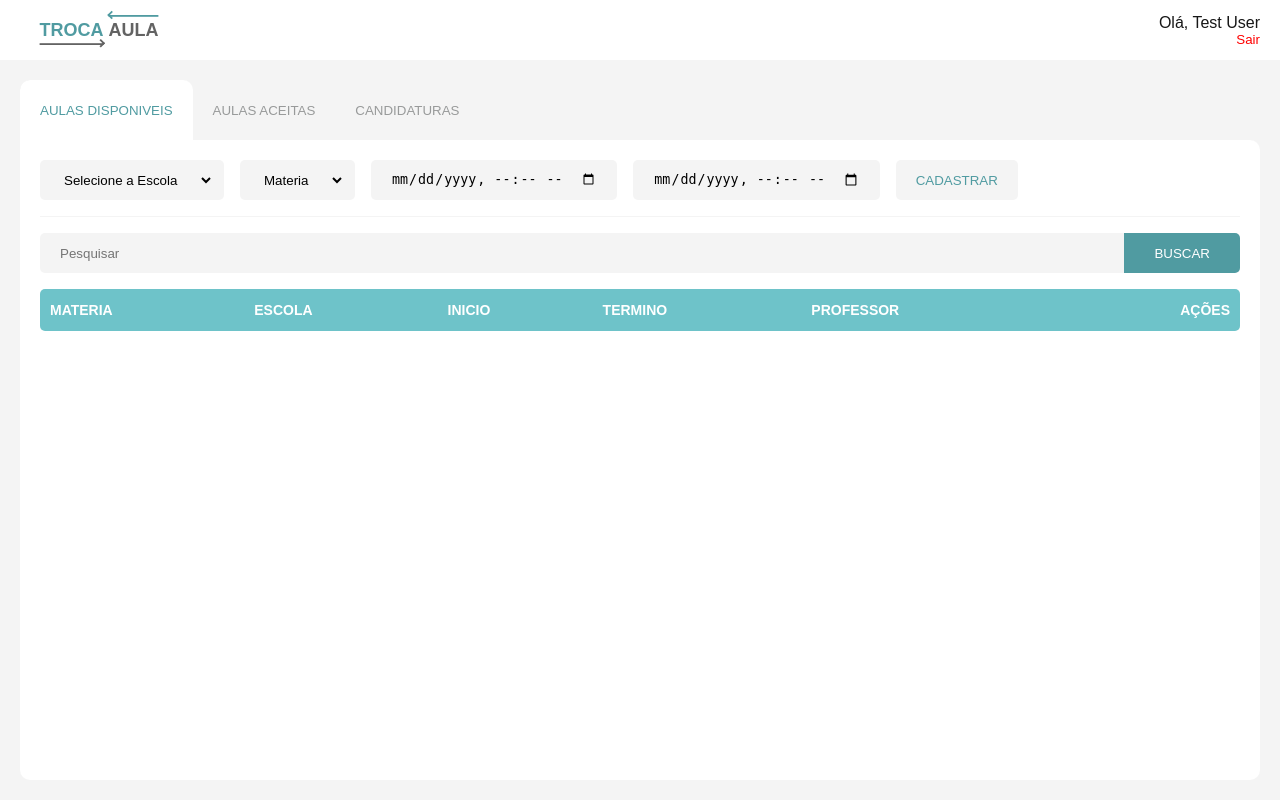
it: Dashboard Page › handles search
This screenshot has width=1280, height=800.
Type "Math" into the field with placeholder "Pesquisar" at (582, 253), box [40,233,1124,273]
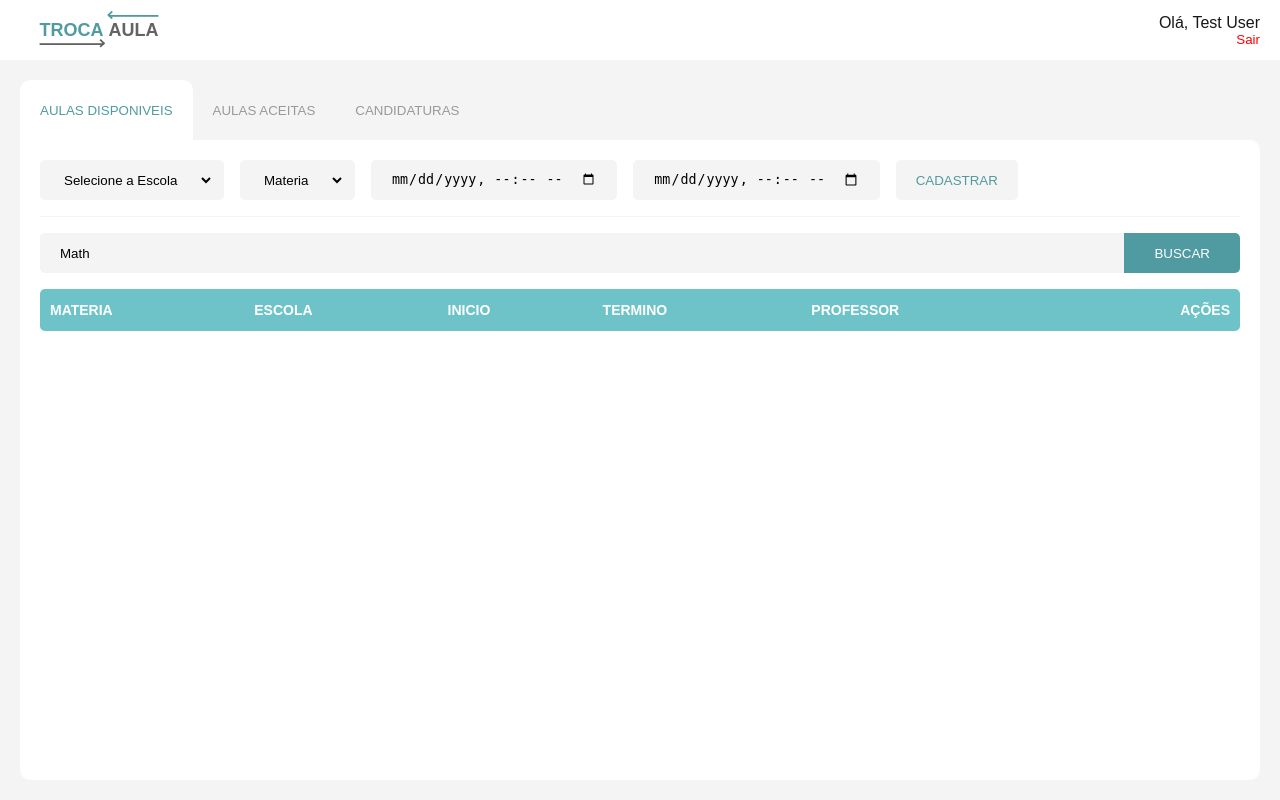
Click the button "Buscar" at (1182, 253), box [1124,233,1240,273]
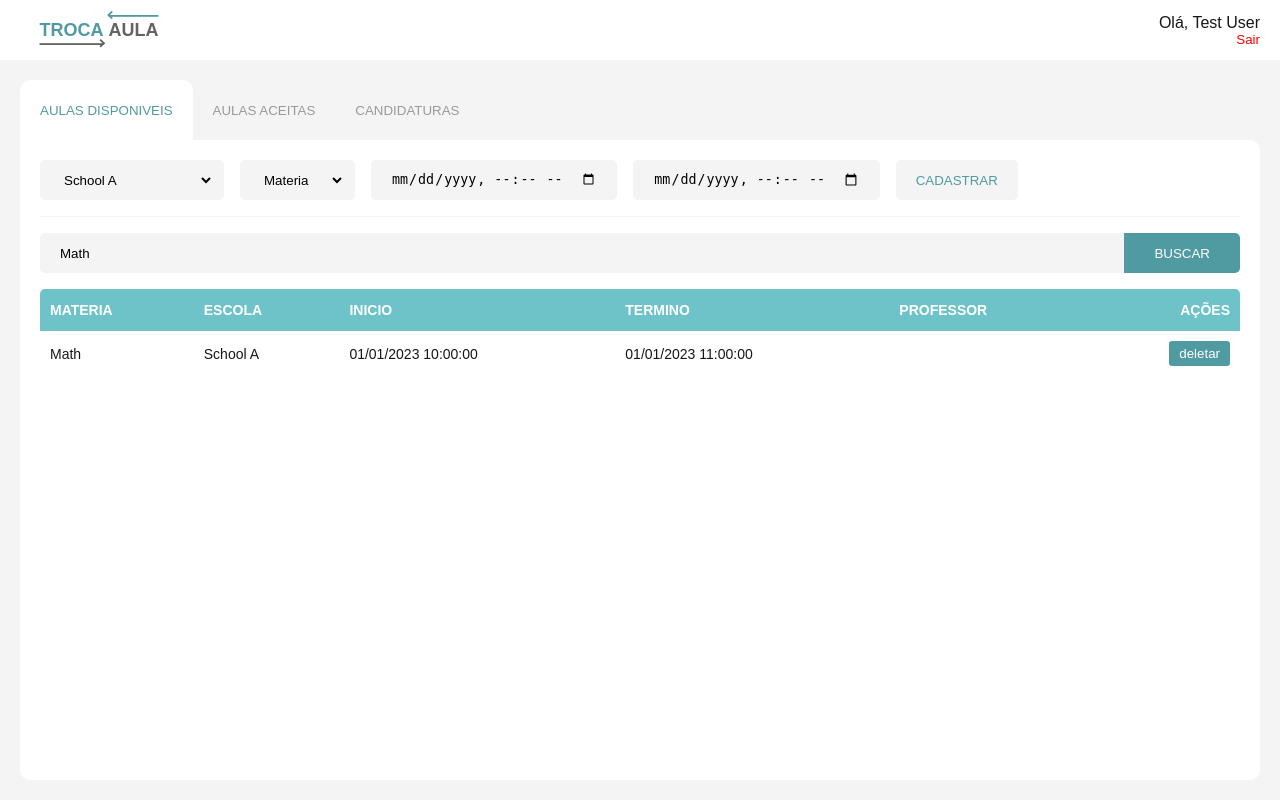
Result: the cell "Math" is shown at [40,331,194,376]
